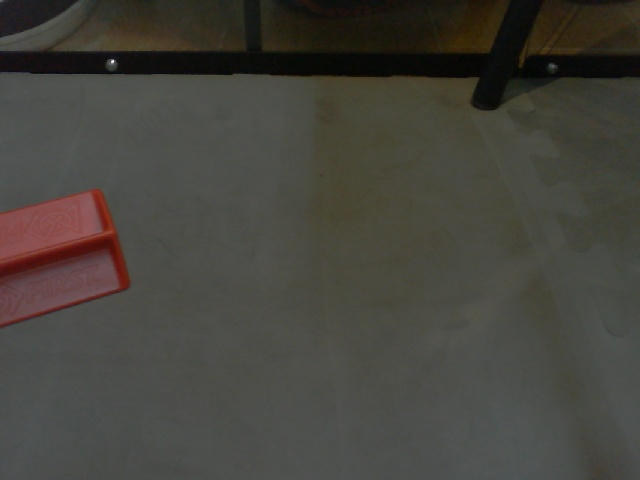RedSample: (1, 184, 131, 328)
